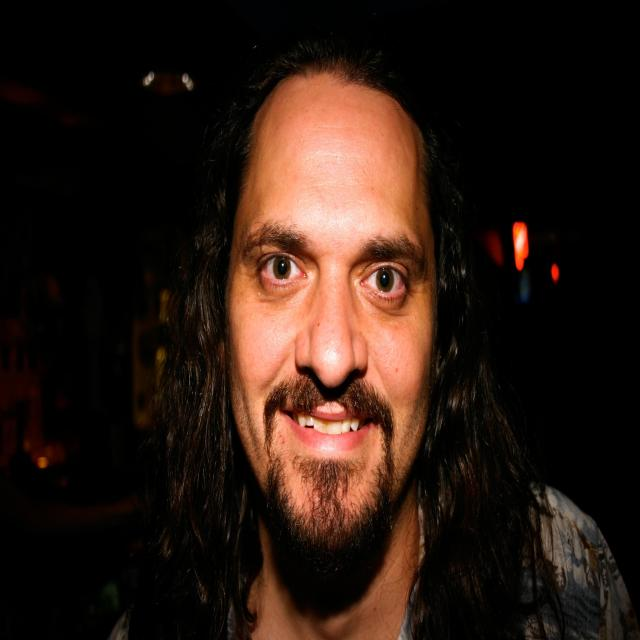Eyebags: (355, 287, 407, 323), (261, 280, 314, 308)
